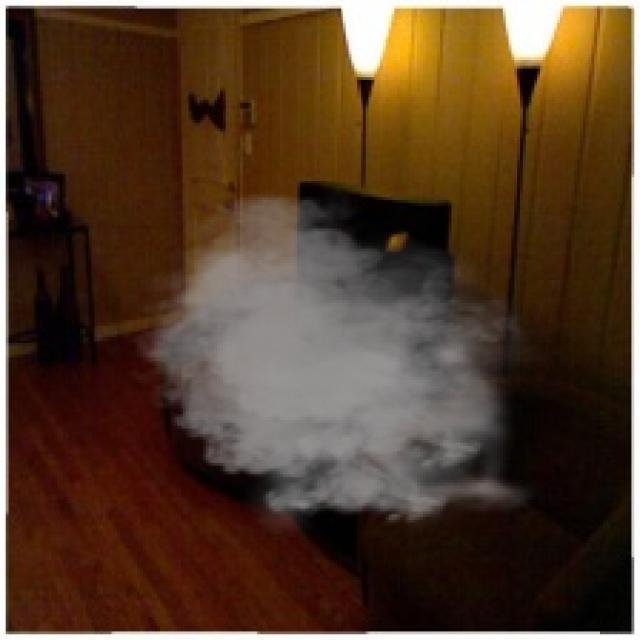Smoke: (123, 183, 546, 540)
